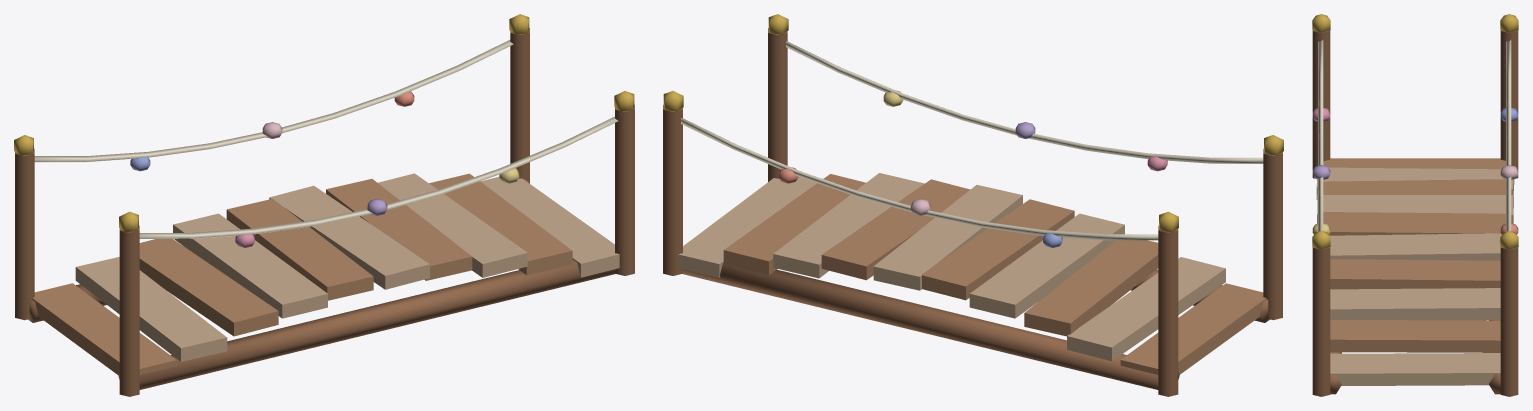
The model's file is wooden_footbridge_small.gltf.
3 views of the same model, side by side, from view 1: azimuth 30°, elevation 25°; view 2: azimuth 150°, elevation 25°; view 3: azimuth 270°, elevation 25° (orthographic). The views are drawn at different scales.
Parts seen in each view (by area): view 1: wooden_footbridge_small; view 2: wooden_footbridge_small; view 3: wooden_footbridge_small.
Part boxes in pixels (x1=…): wooden_footbridge_small: x1=14, y1=14, x2=634, y2=396; wooden_footbridge_small: x1=663, y1=14, x2=1283, y2=396; wooden_footbridge_small: x1=1312, y1=14, x2=1518, y2=396.
Size of what is drawn, in the model's own units: 3.12 by 1.06 by 1.21.
